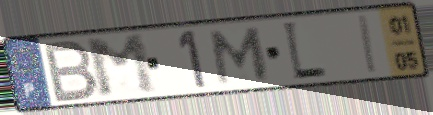1: (175, 28, 212, 91)
B: (42, 37, 102, 105)
I: (357, 13, 381, 77)
L: (280, 19, 330, 84)
M: (82, 32, 161, 100), (208, 25, 272, 87)
